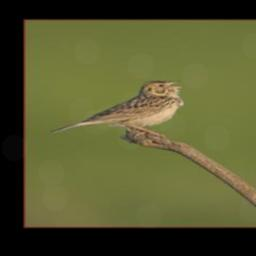Sparrow: (48, 79, 183, 138)
